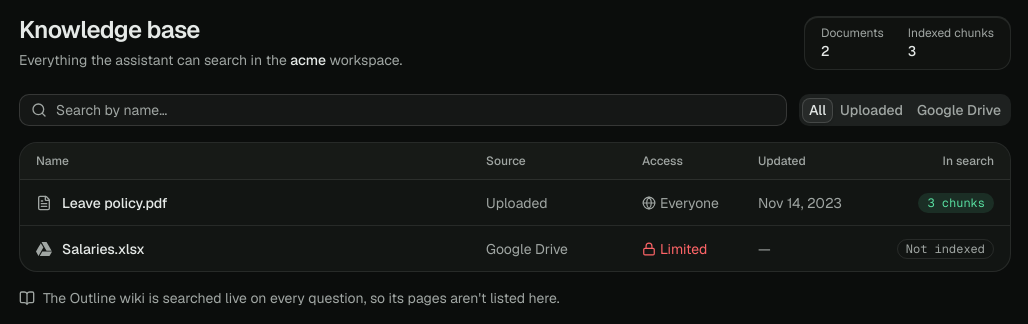
Scenario: KnowledgeView › shows what the server lists, asked as the viewed role
Expected: the text "Leave policy.pdf" is shown, [62, 192, 168, 212]
Expected: the text "acme" is shown, [290, 51, 326, 69]
# Filtering happens here, without asking the server again.
Type "leave" into the field with placeholder "Search by name…". click: (403, 110)
box: [19, 94, 787, 126]
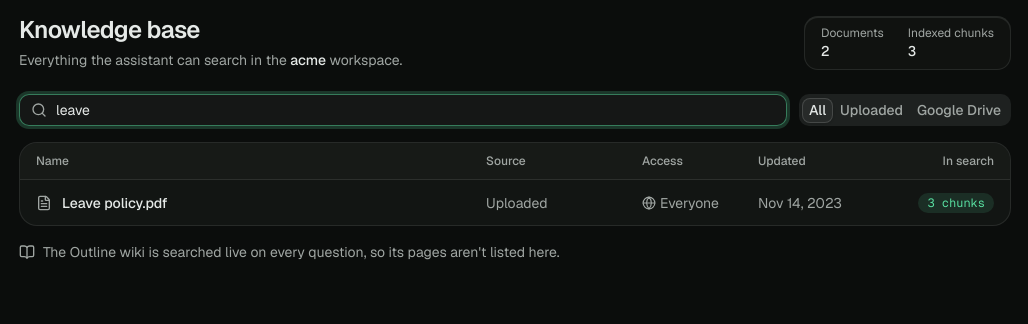
Expected: the link "Salaries.xlsx" is gone
